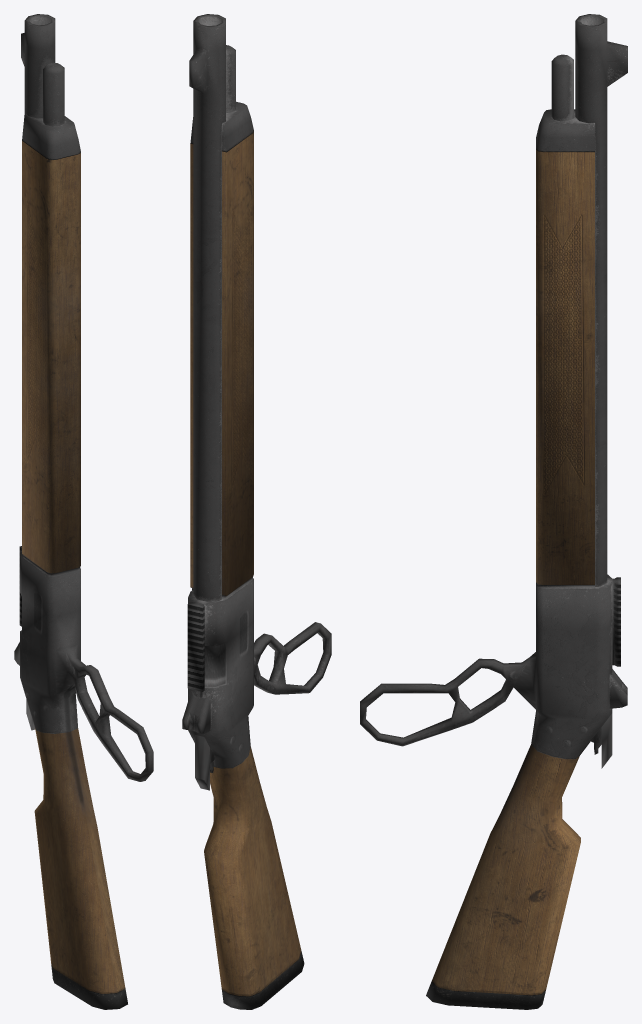
File: TLOG_LeverActionRifleOpen.fbx
3 views of the same model, side by side, from view 1: azimuth 30°, elevation 25°; view 2: azimuth 150°, elevation 25°; view 3: azimuth 270°, elevation 25° (orthographic). The views are drawn at different scales.
Parts seen in each view (by area): view 1: leveropen; view 2: leveropen; view 3: leveropen.
Part boxes in pixels (<box>): leveropen: <box>14,14,153,1009</box>; leveropen: <box>182,14,331,1009</box>; leveropen: <box>360,14,627,1009</box>.
Bounding box in the file's own units: 0.0195 × 0.52 × 0.1287.
